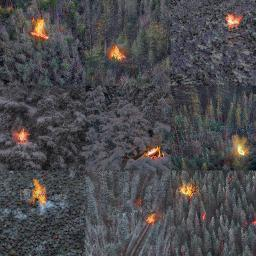Small fire: (23, 13, 54, 46), (27, 179, 54, 206), (102, 41, 129, 65), (140, 143, 168, 163), (176, 181, 197, 203), (11, 126, 32, 147), (223, 11, 244, 31), (234, 139, 251, 160), (242, 212, 256, 231), (130, 193, 147, 208), (145, 212, 160, 227), (196, 211, 210, 224)
